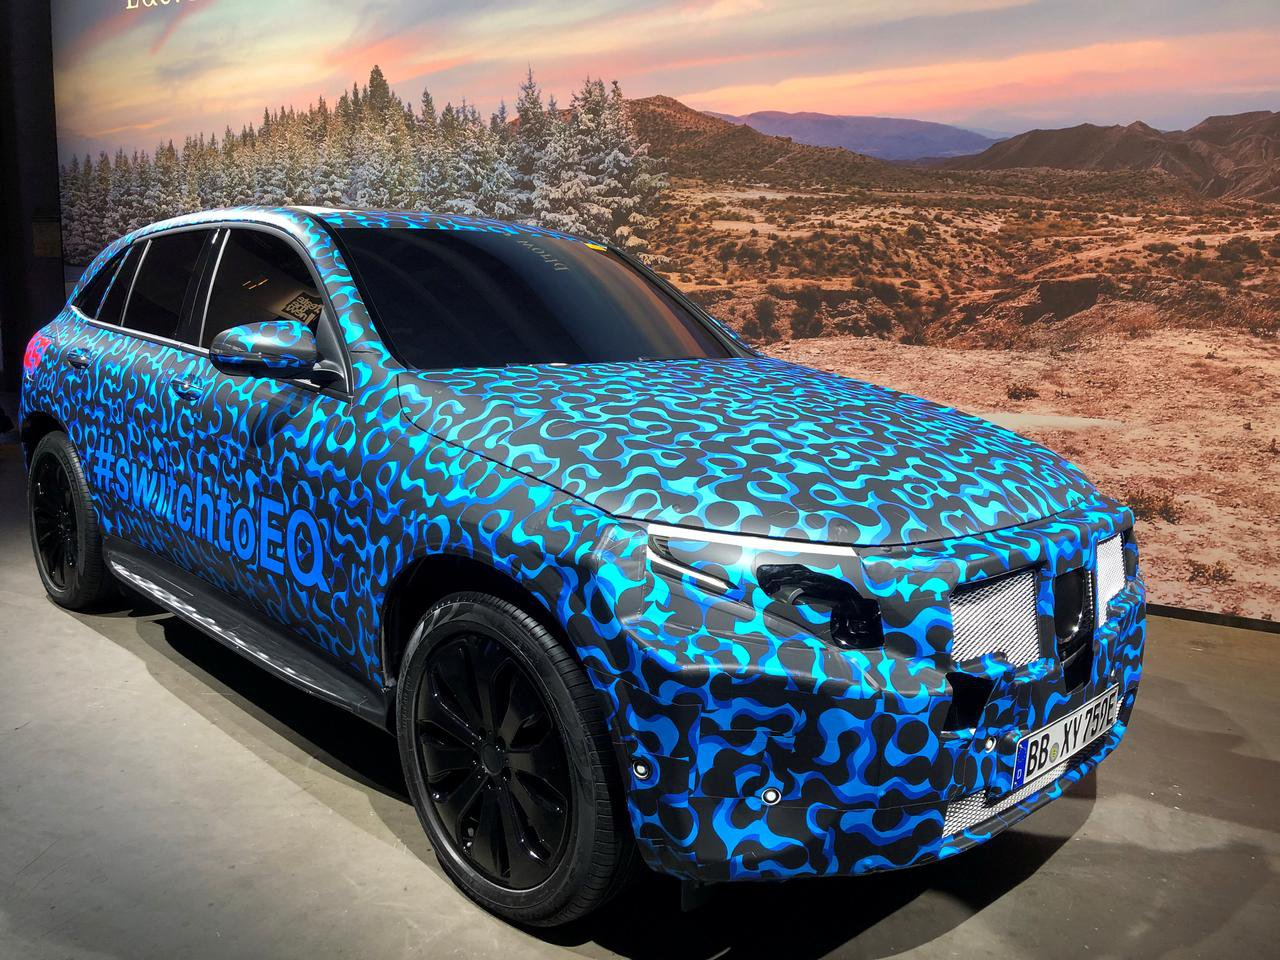car: (17, 193, 1151, 928)
